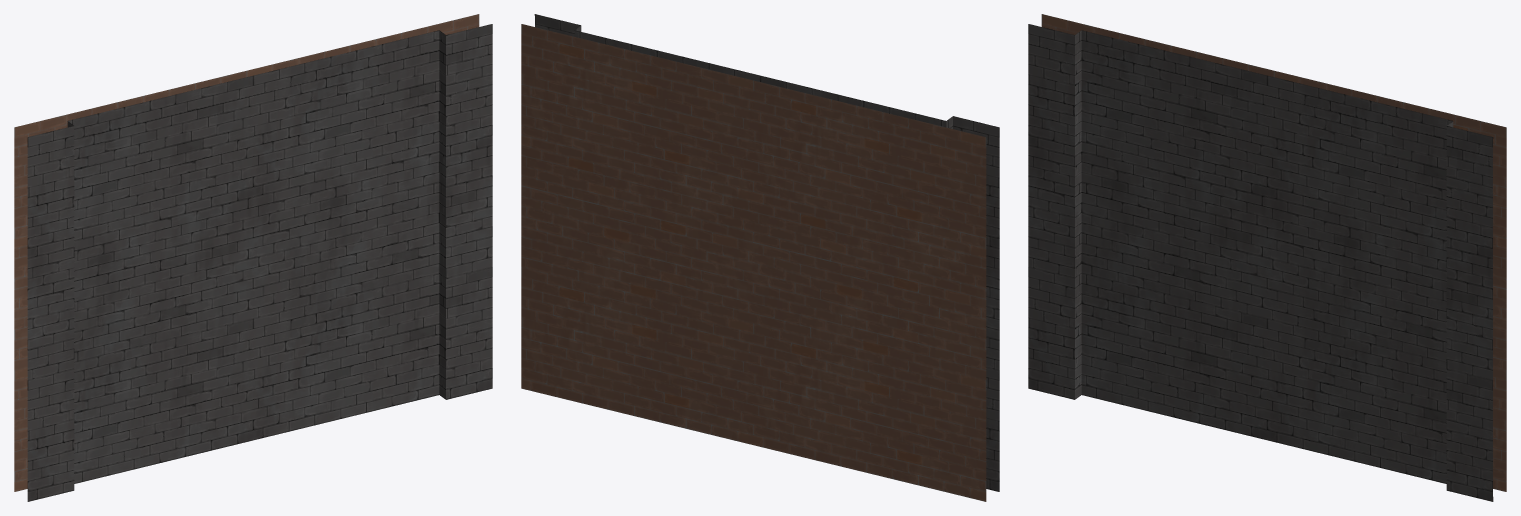
File: WornBrick_Inset_Plain.gltf
3 renders of one model, left to right at view 1: azimuth 30°, elevation 25°; view 2: azimuth 150°, elevation 25°; view 3: azimuth 330°, elevation 25°, orthographic.
Visible parts, largest first — view 1: WornBrick_Inset_Plain; view 2: WornBrick_Inset_Plain; view 3: WornBrick_Inset_Plain.
Part boxes in pixels (left/top/right/bottom): WornBrick_Inset_Plain: left=14, top=14, right=492, bottom=501; WornBrick_Inset_Plain: left=521, top=14, right=999, bottom=501; WornBrick_Inset_Plain: left=1028, top=14, right=1506, bottom=501.
Size of the model in its own units: 4 by 3 by 0.2.
2 materials, 2 textured.
